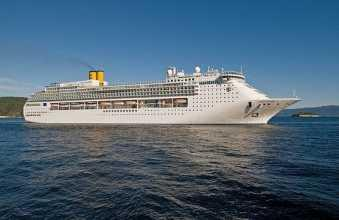youlun: (18, 58, 304, 126)
